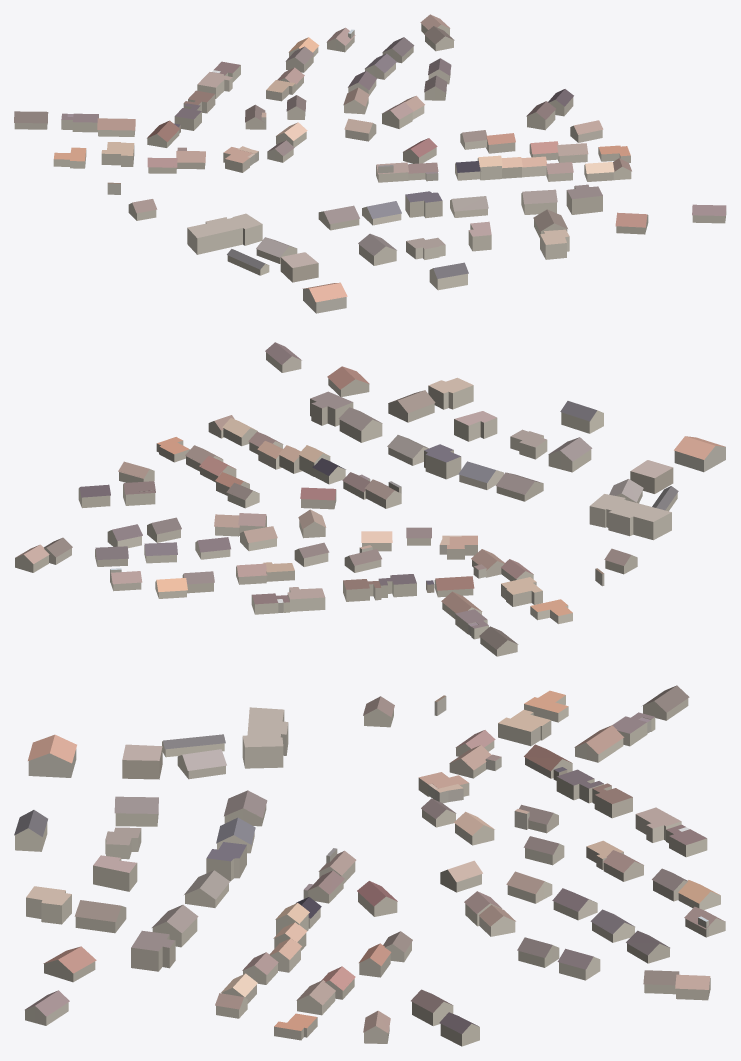
3 renders of one model, top to bottom at view 1: azimuth 30°, elevation 25°; view 2: azimuth 150°, elevation 25°; view 3: azimuth 270°, elevation 25°, orthographic. The views are drawn at different scales.
Parts seen in each view (by area): view 1: tuile; view 2: tuile; view 3: tuile.
Part boxes in pixels (x1,y1,x2,y2): tuile: (14, 14, 726, 313); tuile: (15, 342, 725, 656); tuile: (14, 685, 725, 1046).
Bounding box in the file's own units: 262 × 26.31 × 259.
